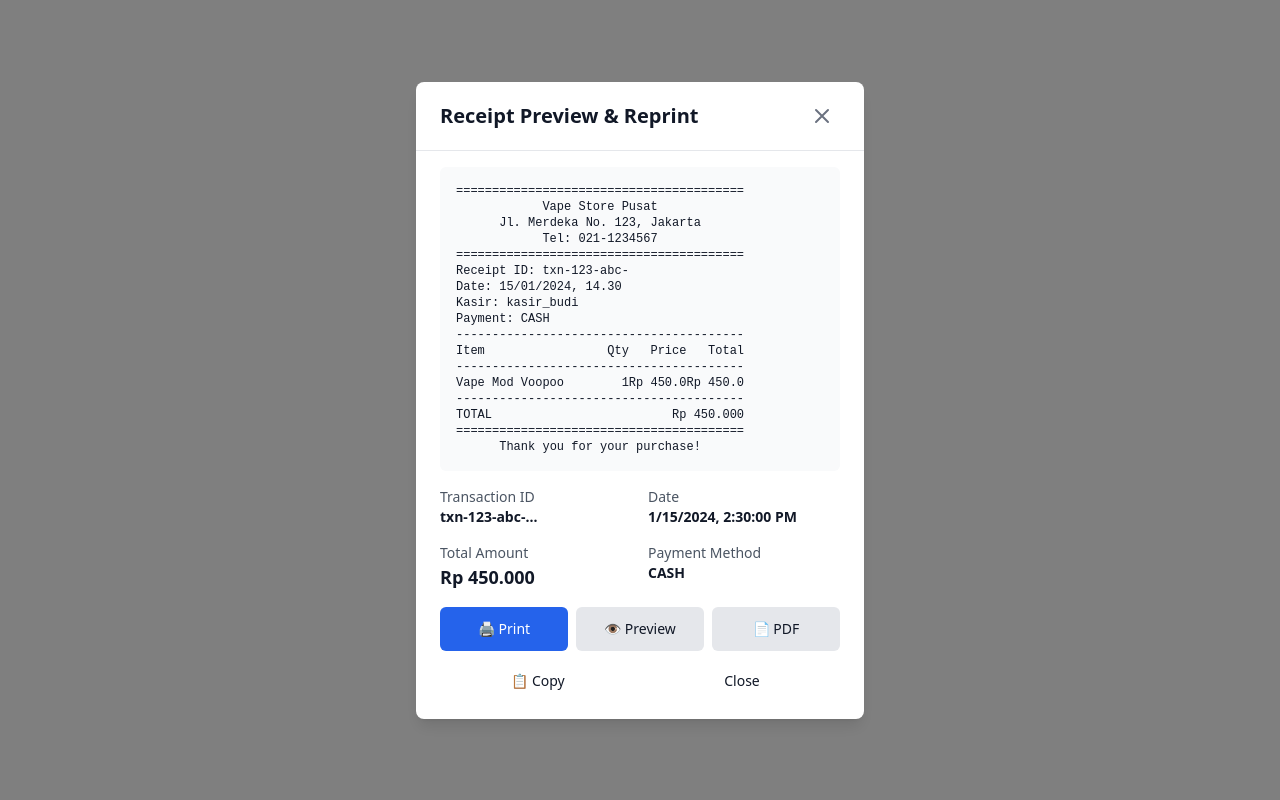
Scenario: ReceiptReprintModal Component › Error Handling › should display error message when print fails
Click the button "🖨️ Print". click: coordinates (504, 628)
box: x1=440 y1=606 x2=568 y2=650
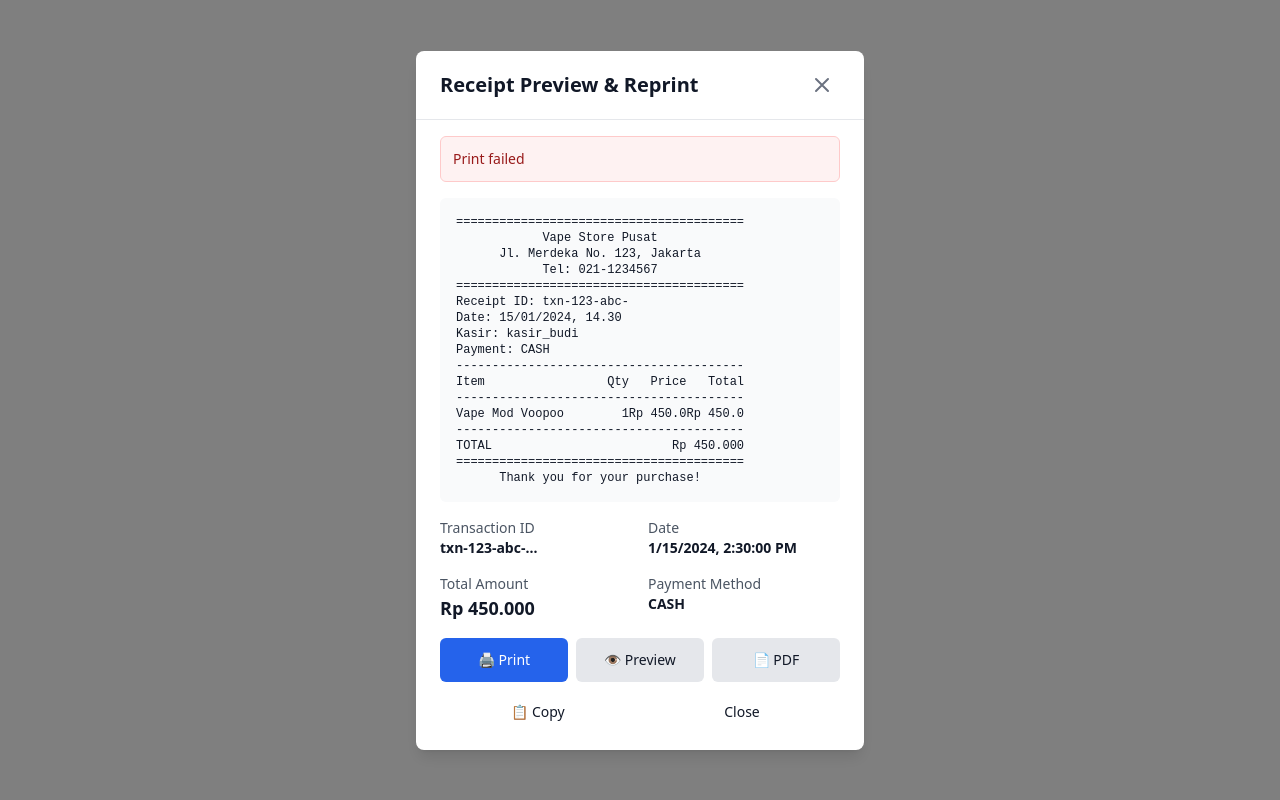
Now the text "Print failed" is shown, box x1=453 y1=148 x2=525 y2=168
